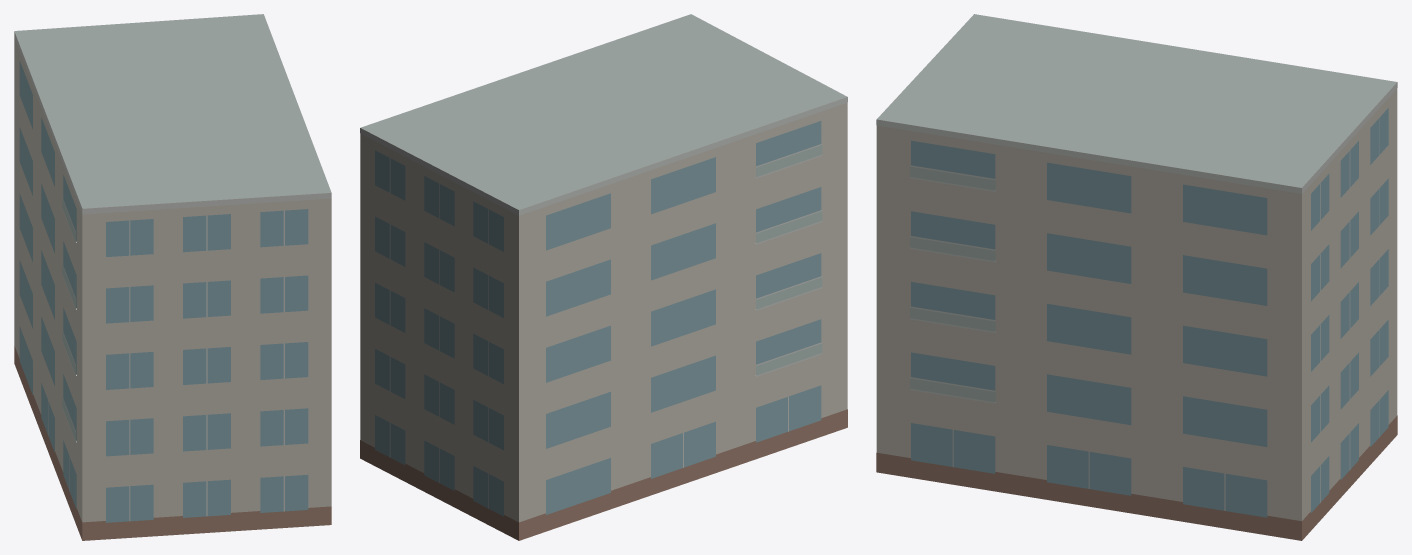
The model's file is survey-upis-32984514.glb.
3 views of the same model, side by side, from view 1: azimuth 30°, elevation 25°; view 2: azimuth 150°, elevation 25°; view 3: azimuth 270°, elevation 25° (orthographic). The views are drawn at different scales.
Visible parts, largest first — view 1: survey-upis-32984514.tmp; view 2: survey-upis-32984514.tmp; view 3: survey-upis-32984514.tmp.
Boxes of the visible parts, <box> form: survey-upis-32984514.tmp: <box>14,14,331,540</box>; survey-upis-32984514.tmp: <box>360,14,847,540</box>; survey-upis-32984514.tmp: <box>876,14,1397,540</box>.
Bounding box in the file's own units: 15.34 × 14.5 × 19.41.
